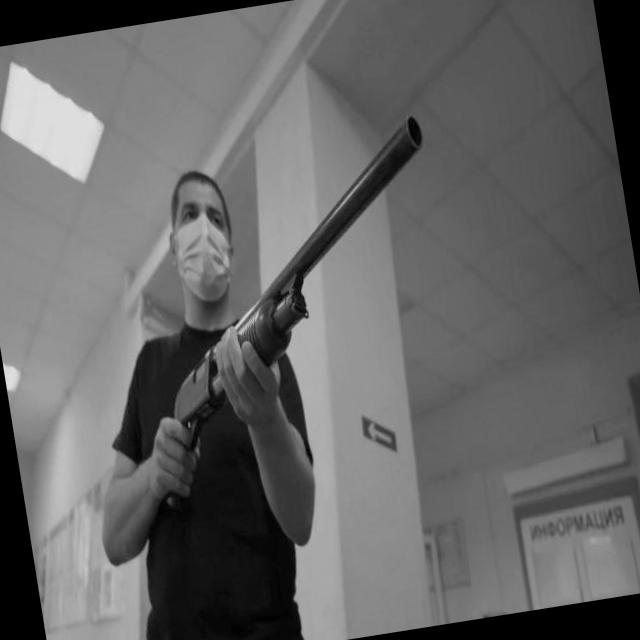gun: (111, 112, 476, 516)
person with a gun: (44, 111, 499, 640)
